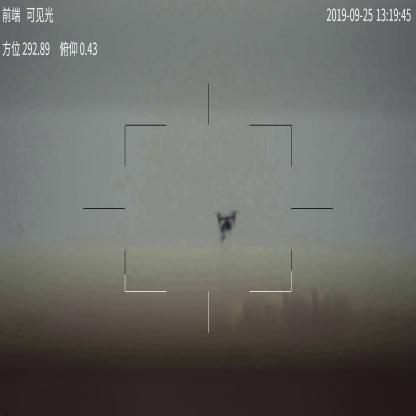uav: (213, 208, 239, 240)
